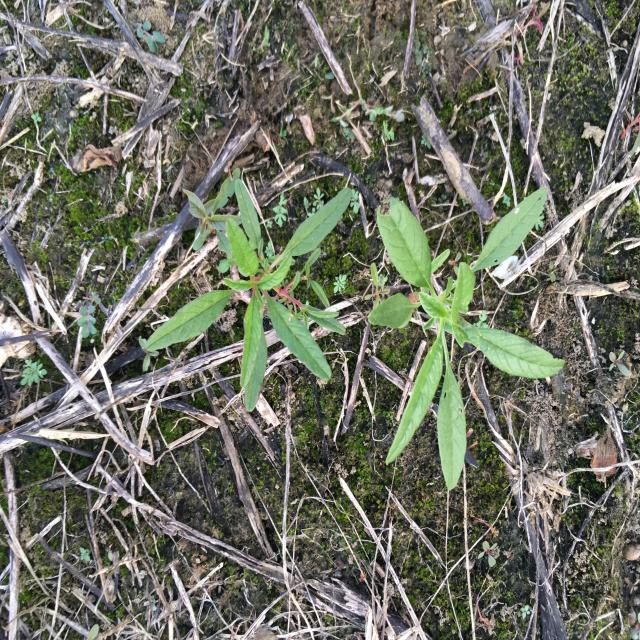Ragweed: (18, 357, 48, 389)
SpottedSpurge: (77, 288, 102, 342)
Waterhemp: (367, 185, 566, 494), (143, 178, 353, 414)
